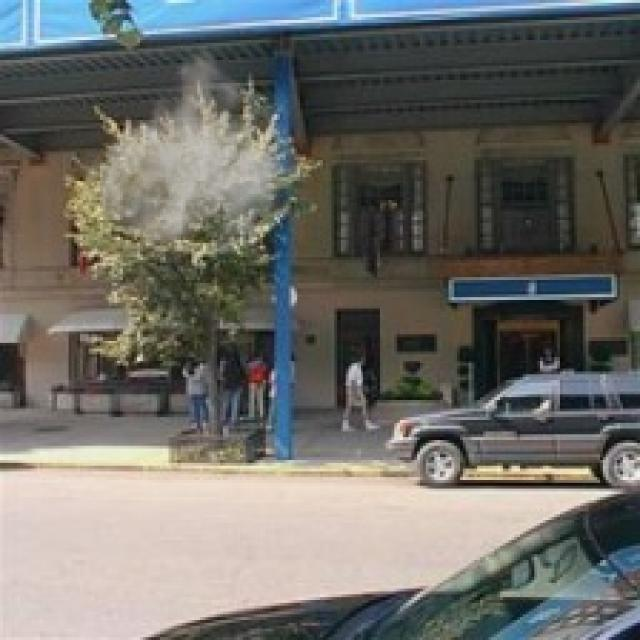smoke: (80, 40, 294, 269)
